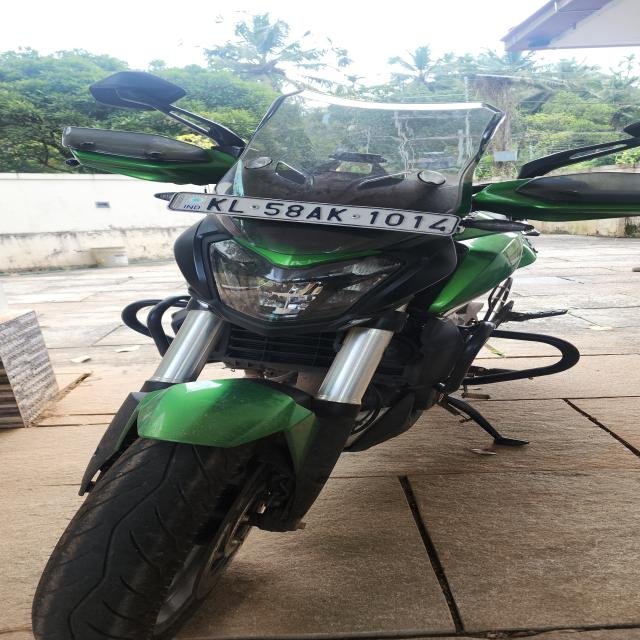headlight: (206, 237, 408, 323)
